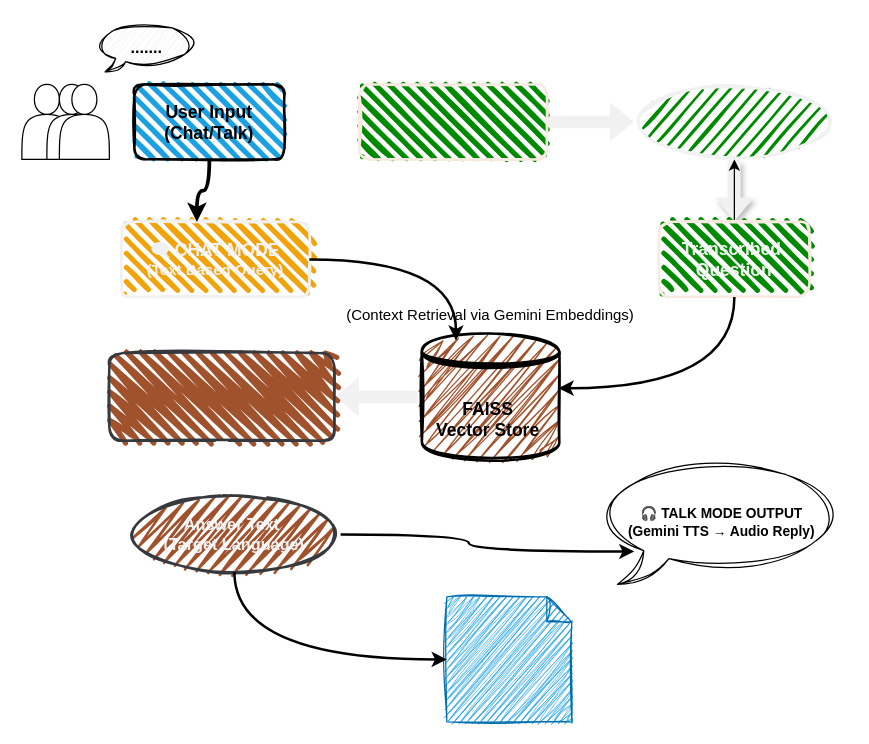
Some shapes in this 869 by 744 pixel diagram are drawn without their labels. Here are the shapes that lost their labels. From the top down, the centre of each, then its label:
At (x=453, y=121): "🎙 TALK MODE (Voice Based Query)".
At (x=733, y=121): "AssemblyAI STT Engine (Speech → Text)".
At (x=221, y=396): "Gemini QA Chain (RAG) - Uses LangChain - Multilingual prompt".
At (x=509, y=659): "🗨 CHAT MODE OUTPUT (Display text answer)".
